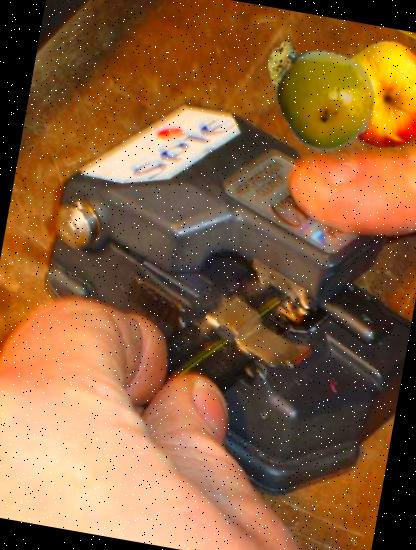Apple: (322, 33, 416, 159)
Cauliflower: (262, 36, 322, 96)
Maracuja: (261, 36, 385, 160)
